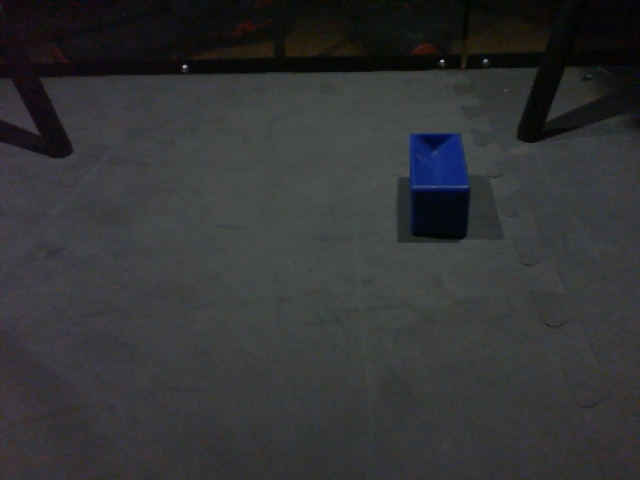BlueSample: (405, 129, 472, 240)
